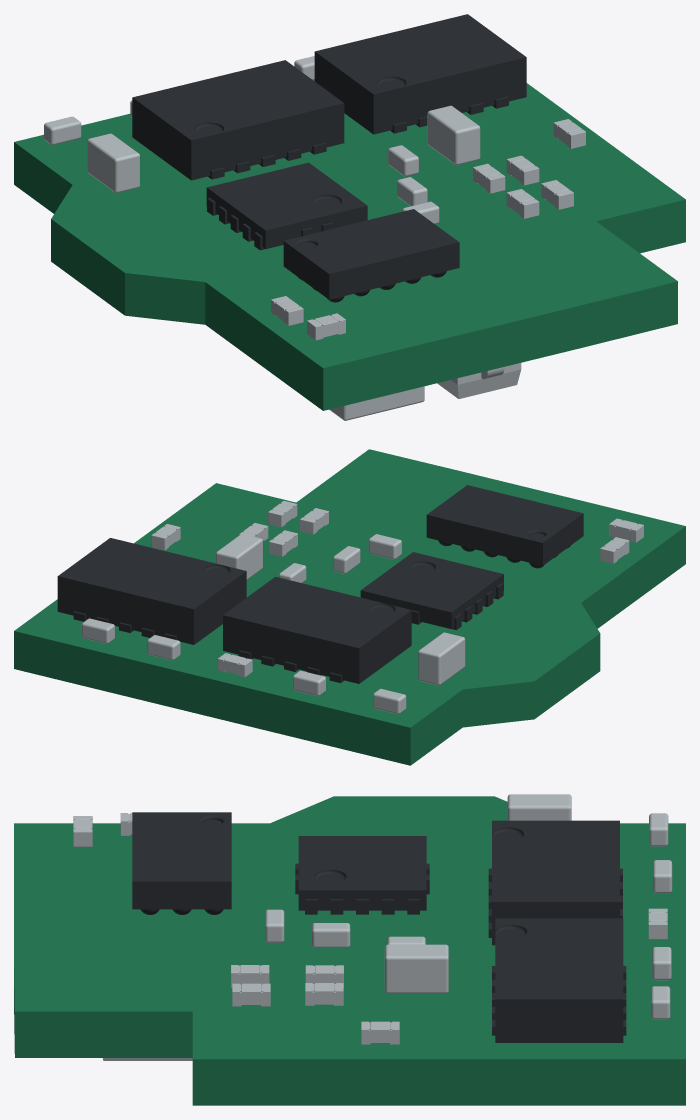
The model's file is before.glb.
3 views of the same model, one above another, from view 1: azimuth 30°, elevation 25°; view 2: azimuth 150°, elevation 25°; view 3: azimuth 270°, elevation 25° (orthographic). The views are drawn at different scales.
Visible parts, largest first — view 1: before:/Open_CASCADE_STEP_translator_6_9_1/SOLID, before:/Open_CASCADE_STEP_translator_6_9_1/SON_11_P50_300X20 (×2), before:/Open_CASCADE_STEP_translator_6_9_1/BGA_15_NP50_3X5_1 (×2), before:/Open_CASCADE_STEP_translator_6_9_1/QFN_14_P40_200X20, before:/Open_CASCADE_STEP_translator_6_9_1/C_0402_1005Metric (×4), before:/Open_CASCADE_STEP_translator_6_9_1/SOD_323_250X125X1, before:/Open_CASCADE_STEP_translator_6_9_1/C_0603_1608Metric; view 2: before:/Open_CASCADE_STEP_translator_6_9_1/SOLID, before:/Open_CASCADE_STEP_translator_6_9_1/SON_11_P50_300X20 (×2), before:/Open_CASCADE_STEP_translator_6_9_1/BGA_15_NP50_3X5_1 (×2), before:/Open_CASCADE_STEP_translator_6_9_1/QFN_14_P40_200X20, before:/Open_CASCADE_STEP_translator_6_9_1/C_0402_1005Metric (×4); view 3: before:/Open_CASCADE_STEP_translator_6_9_1/SOLID, before:/Open_CASCADE_STEP_translator_6_9_1/SON_11_P50_300X20 (×2), before:/Open_CASCADE_STEP_translator_6_9_1/BGA_15_NP50_3X5_1 (×2), before:/Open_CASCADE_STEP_translator_6_9_1/QFN_14_P40_200X20, before:/Open_CASCADE_STEP_translator_6_9_1/C_0402_1005Metric (×4), before:/Open_CASCADE_STEP_translator_6_9_1/C_0201_0603Metric.
Boxes of the visible parts, bbox=[...] form: before:/Open_CASCADE_STEP_translator_6_9_1/SOLID: bbox=[14, 80, 685, 410]; before:/Open_CASCADE_STEP_translator_6_9_1/SON_11_P50_300X20 (×2): bbox=[132, 14, 526, 180]; before:/Open_CASCADE_STEP_translator_6_9_1/BGA_15_NP50_3X5_1 (×2): bbox=[283, 209, 459, 299]; before:/Open_CASCADE_STEP_translator_6_9_1/QFN_14_P40_200X20: bbox=[206, 162, 367, 248]; before:/Open_CASCADE_STEP_translator_6_9_1/C_0402_1005Metric (×4): bbox=[93, 110, 480, 192]; before:/Open_CASCADE_STEP_translator_6_9_1/SOD_323_250X125X1: bbox=[437, 363, 521, 398]; before:/Open_CASCADE_STEP_translator_6_9_1/C_0603_1608Metric: bbox=[363, 390, 406, 416]; before:/Open_CASCADE_STEP_translator_6_9_1/SOLID: bbox=[14, 449, 685, 765]; before:/Open_CASCADE_STEP_translator_6_9_1/SON_11_P50_300X20 (×2): bbox=[57, 538, 411, 683]; before:/Open_CASCADE_STEP_translator_6_9_1/BGA_15_NP50_3X5_1 (×2): bbox=[426, 485, 583, 565]; before:/Open_CASCADE_STEP_translator_6_9_1/QFN_14_P40_200X20: bbox=[360, 552, 503, 628]; before:/Open_CASCADE_STEP_translator_6_9_1/C_0402_1005Metric (×4): bbox=[216, 538, 459, 685]; before:/Open_CASCADE_STEP_translator_6_9_1/SOLID: bbox=[14, 796, 685, 1105]; before:/Open_CASCADE_STEP_translator_6_9_1/SON_11_P50_300X20 (×2): bbox=[492, 820, 623, 1042]; before:/Open_CASCADE_STEP_translator_6_9_1/BGA_15_NP50_3X5_1 (×2): bbox=[132, 812, 231, 909]; before:/Open_CASCADE_STEP_translator_6_9_1/QFN_14_P40_200X20: bbox=[298, 836, 426, 910]; before:/Open_CASCADE_STEP_translator_6_9_1/C_0402_1005Metric (×4): bbox=[384, 794, 555, 993]; before:/Open_CASCADE_STEP_translator_6_9_1/C_0201_0603Metric: bbox=[321, 923, 340, 947].
Size of the model in its own units: 0.00973 by 0.00281 by 0.0105.
